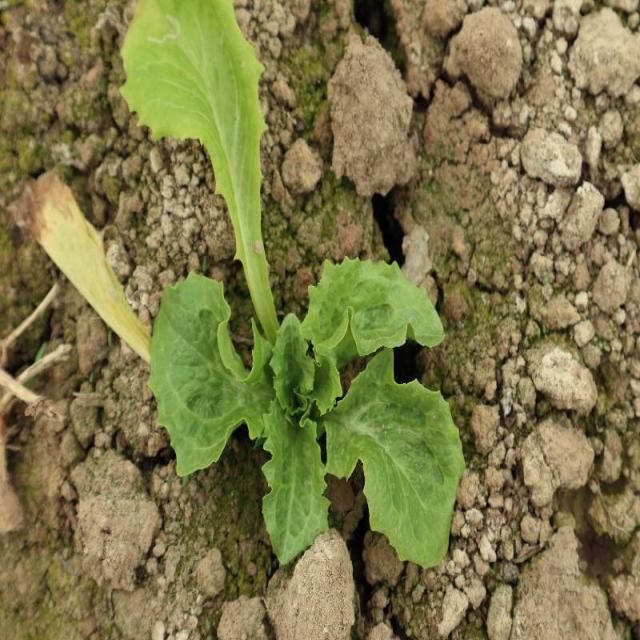crop: (149, 251, 465, 569)
